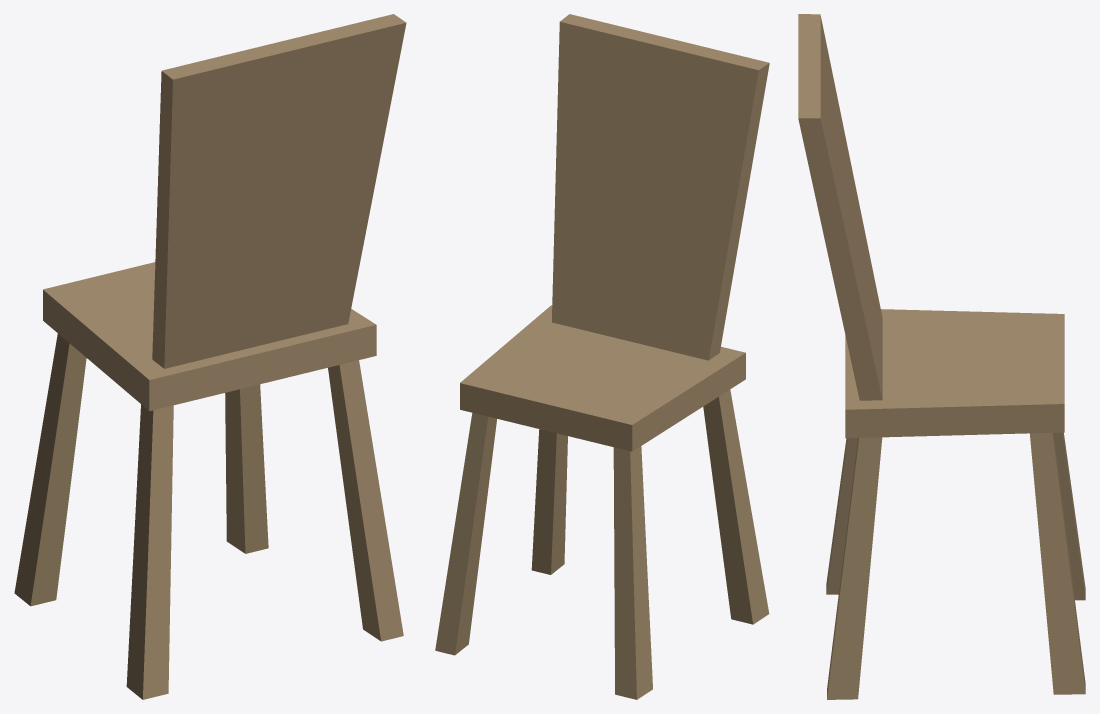
File: Chair.fbx
The picture shows the model from 3 angles, left to right: view 1: azimuth 30°, elevation 25°; view 2: azimuth 150°, elevation 25°; view 3: azimuth 270°, elevation 25°; orthographic projection. The views are drawn at different scales.
Parts seen in each view (by area): view 1: Chair; view 2: Chair; view 3: Chair.
Boxes of the visible parts, x1,y1,x2,y2 form: Chair: (14, 14, 406, 699); Chair: (435, 14, 769, 699); Chair: (798, 14, 1085, 699).
Size of the model in its own units: 66.69 by 153 by 69.3.
